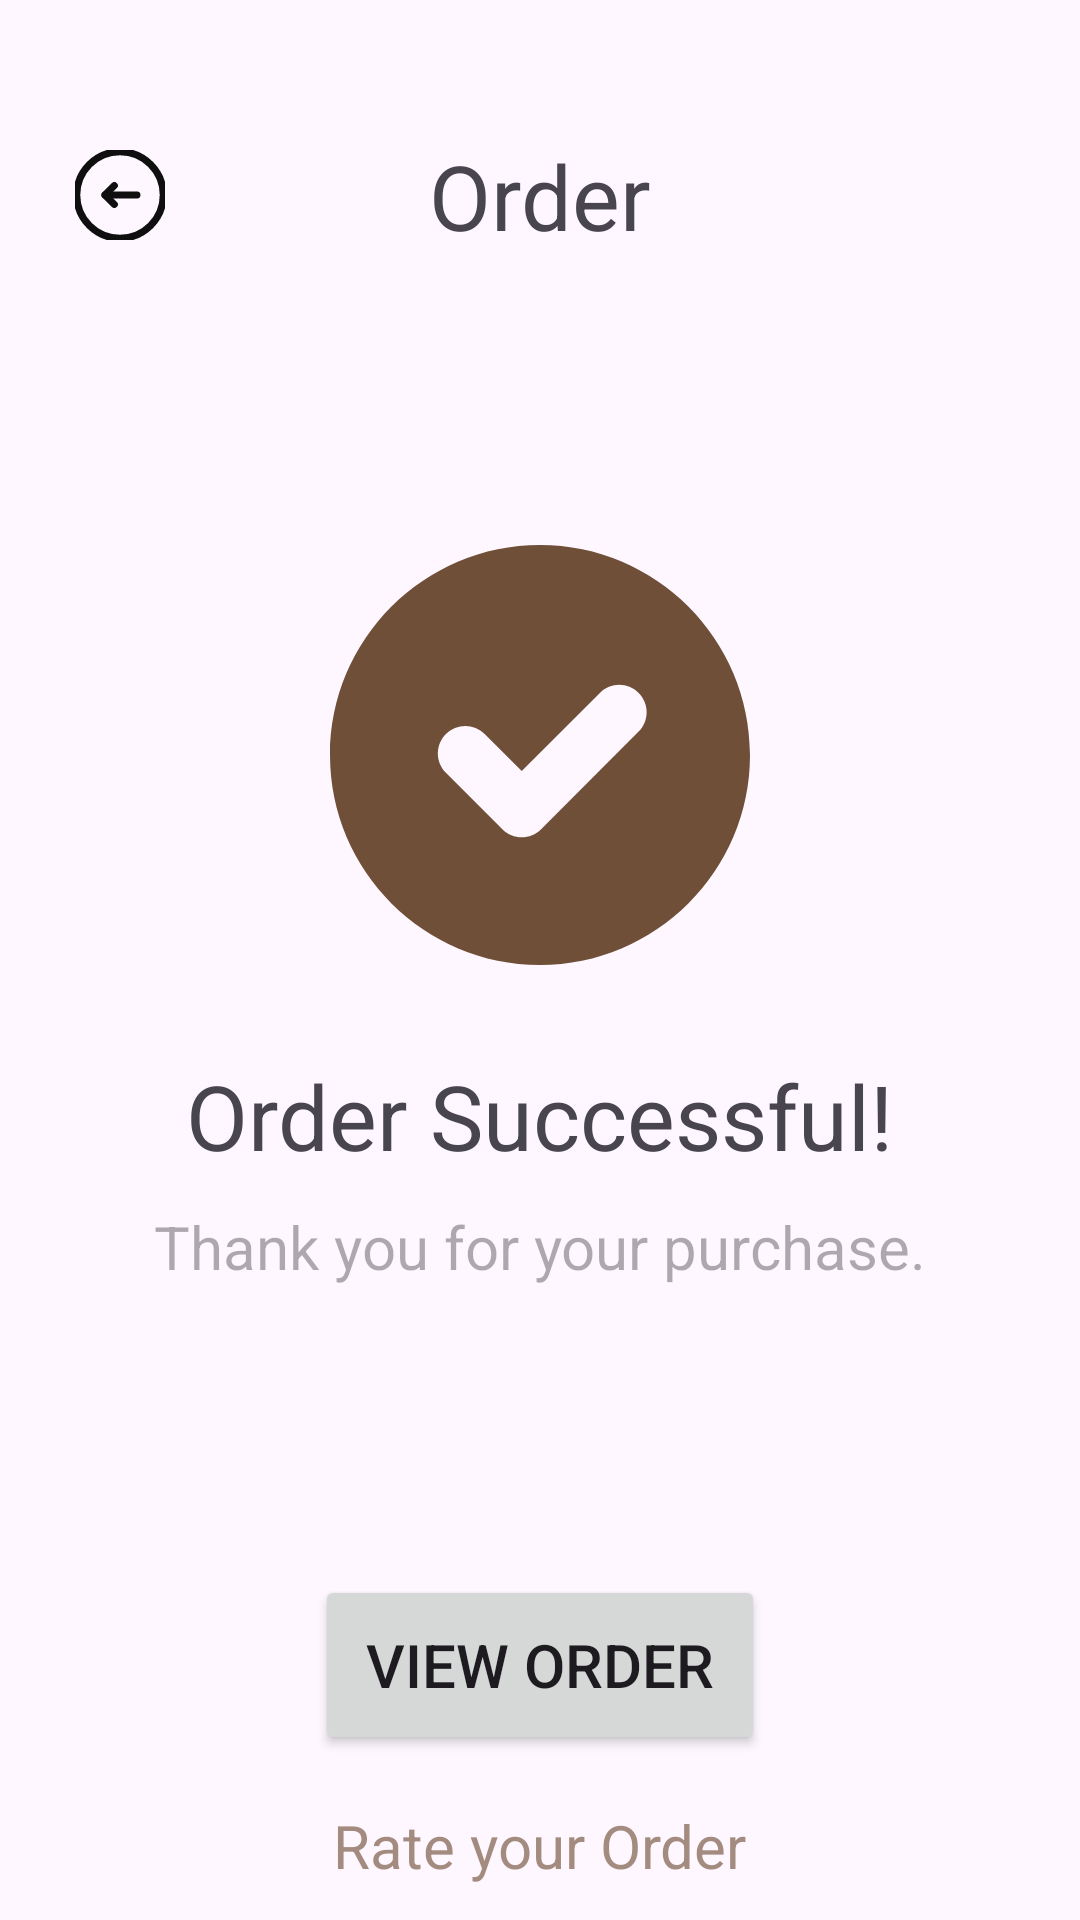

Where to tap for icons on this 1080*1920 app screen, as point (x, y):
back: point (120, 195)
